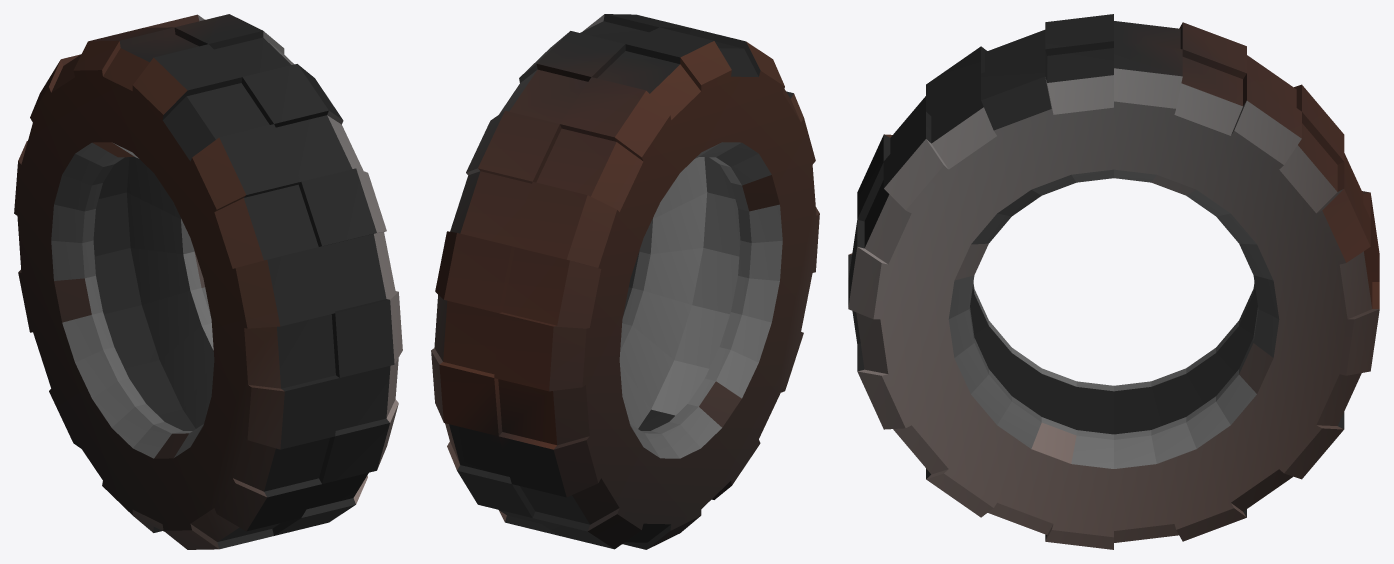
Rendered from TiresLvl2.fbx.
3 renders of one model, left to right at view 1: azimuth 30°, elevation 25°; view 2: azimuth 150°, elevation 25°; view 3: azimuth 270°, elevation 25°, orthographic.
Visible parts, largest first — view 1: tires_lvl2; view 2: tires_lvl2; view 3: tires_lvl2.
Boxes of the visible parts, x1,y1,x2,y2 form: tires_lvl2: (14, 14, 402, 549); tires_lvl2: (431, 14, 819, 549); tires_lvl2: (848, 14, 1379, 549).
Size of the model in its own units: 0.3428 by 1.03 by 1.03.
